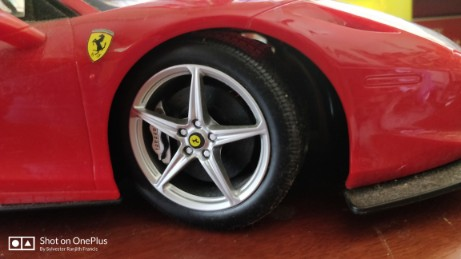unaligned_wheel: (137, 31, 320, 236)
